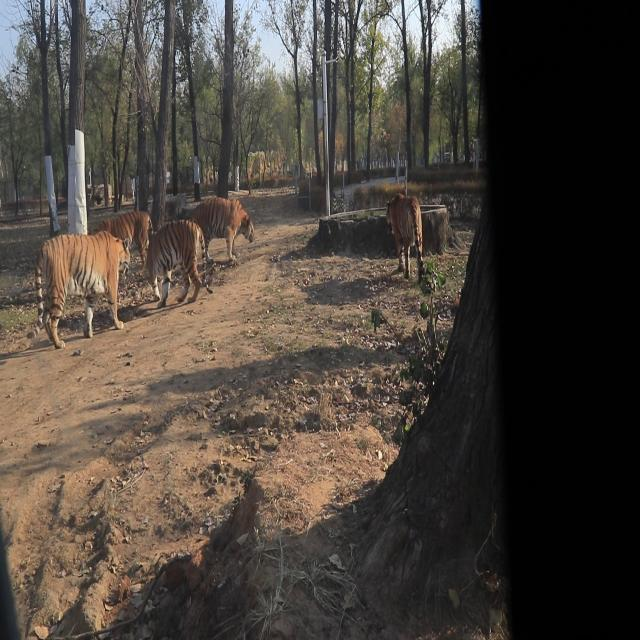Tiger: (24, 219, 133, 350), (144, 218, 218, 306), (188, 193, 254, 264), (90, 202, 155, 269), (385, 191, 430, 280)
